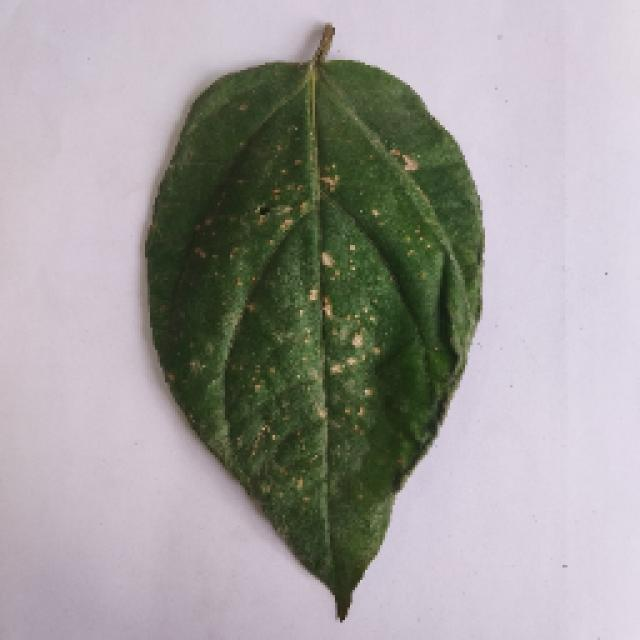pollu-disease: (140, 35, 482, 620)
